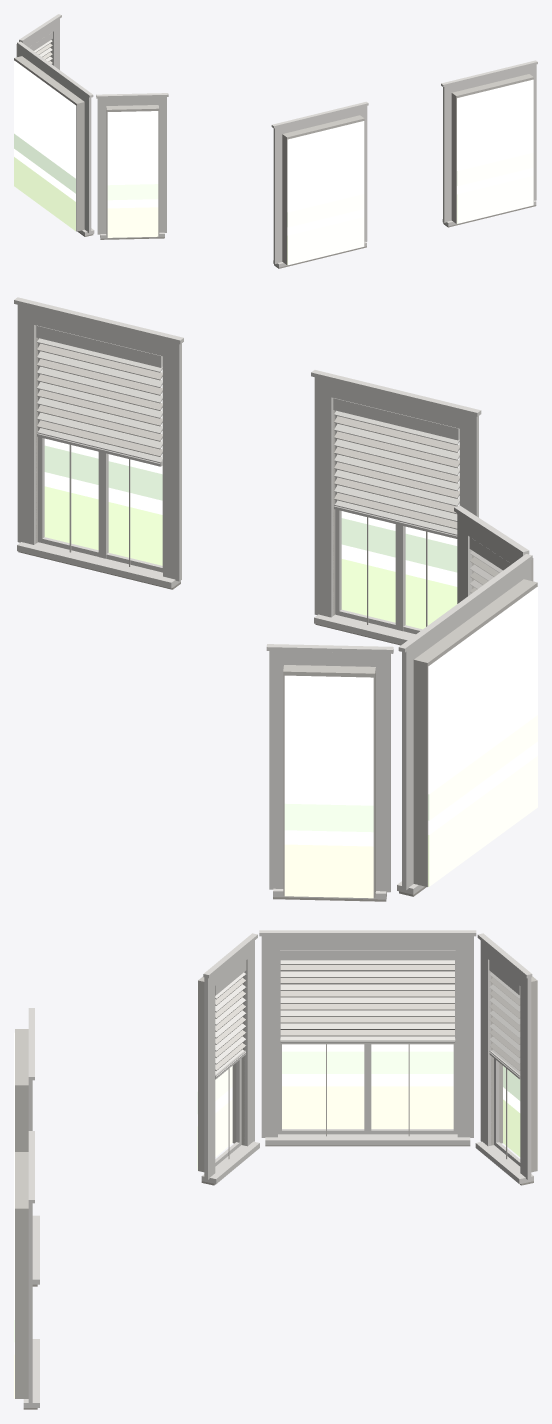
The model's file is Dining_Windows.glb.
3 views of the same model, one above another, from view 1: azimuth 30°, elevation 25°; view 2: azimuth 150°, elevation 25°; view 3: azimuth 270°, elevation 25° (orthographic). The views are drawn at different scales.
Parts seen in each view (by area): view 1: root; view 2: root; view 3: root.
Boxes of the visible parts, x1,y1,x2,y2 form: root: (14, 14, 537, 268); root: (14, 297, 537, 901); root: (14, 930, 537, 1409).
Size of the model in its own units: 4.1 by 1.47 by 3.29.
